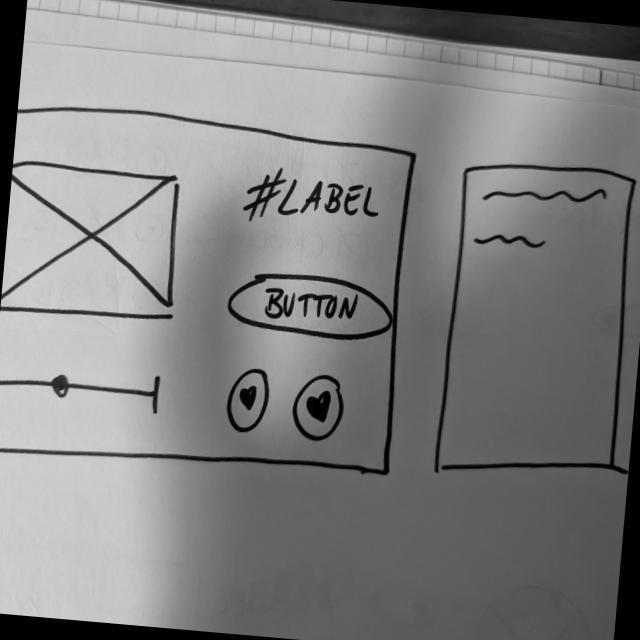button: (224, 265, 397, 349)
container: (1, 95, 424, 500)
icon-button: (290, 372, 350, 446), (223, 364, 276, 439)
image: (1, 155, 188, 331)
label: (241, 163, 384, 237)
slider: (1, 357, 165, 423)
textarea: (430, 155, 640, 490)
